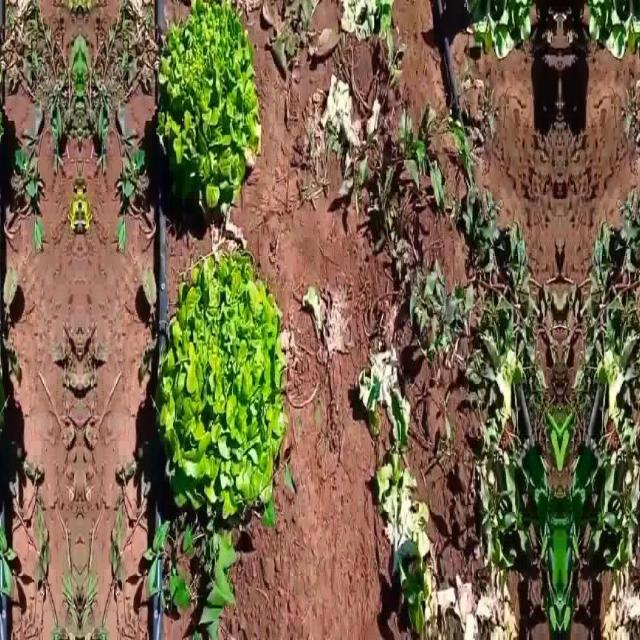healthy: (150, 251, 288, 525), (146, 0, 264, 224), (0, 0, 14, 224), (0, 251, 10, 525)
